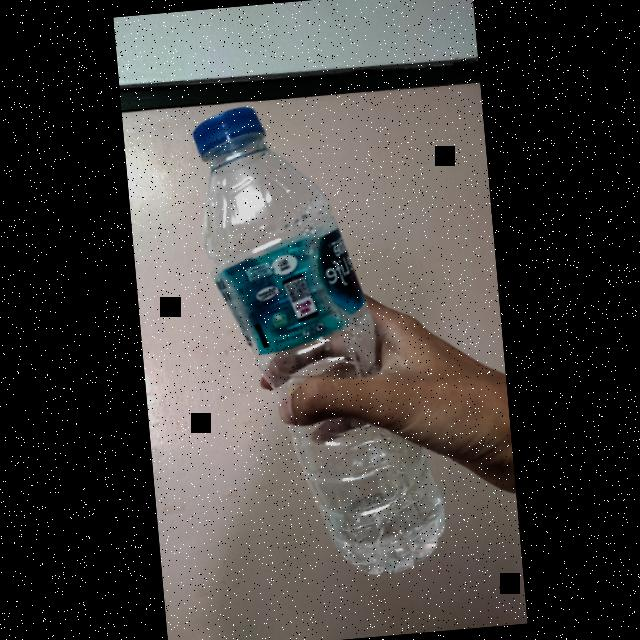plastic_bottle: (176, 86, 466, 594)
plastic_bottle_cap: (190, 102, 268, 164)
